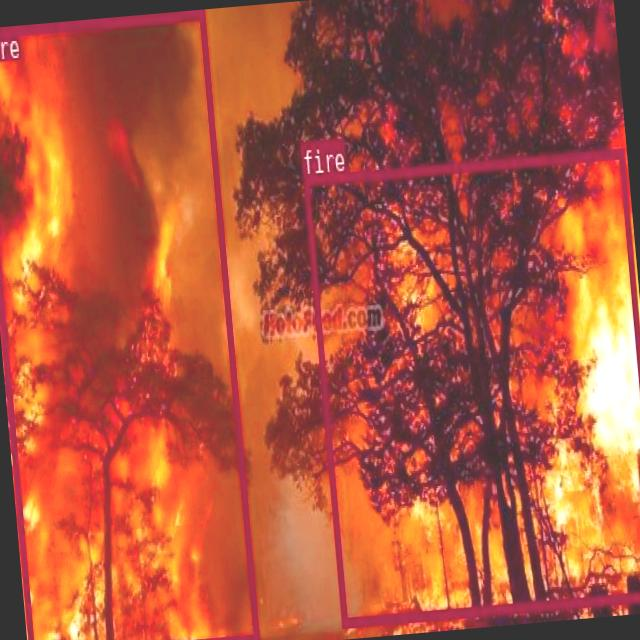fire: (0, 9, 258, 640), (302, 147, 640, 624)
